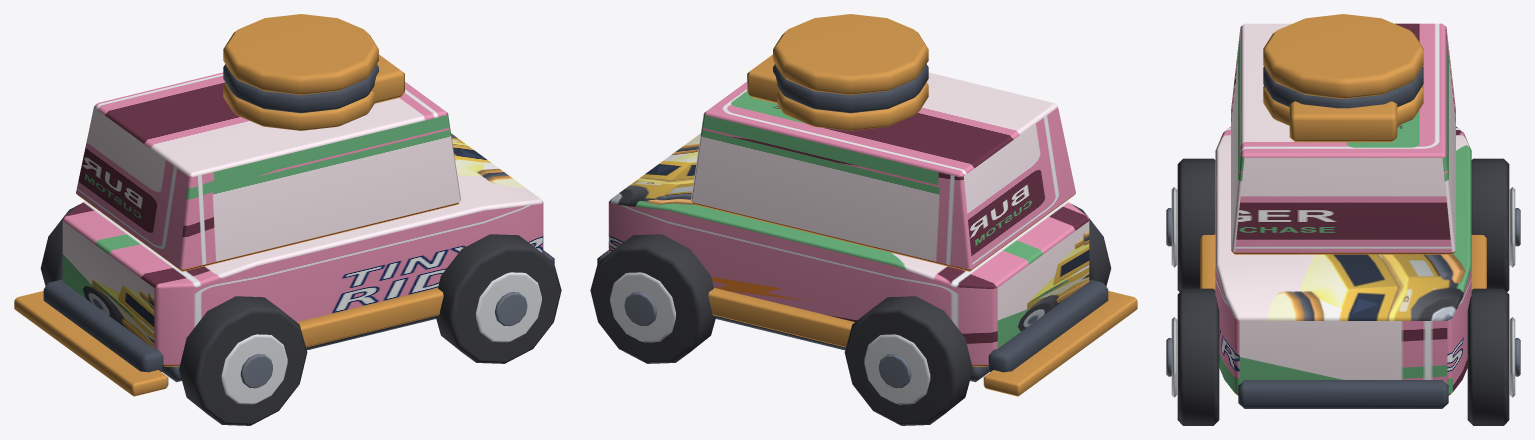
3 renders of one model, left to right at view 1: azimuth 30°, elevation 25°; view 2: azimuth 150°, elevation 25°; view 3: azimuth 270°, elevation 25°, orthographic. The views are drawn at different scales.
Visible parts, largest first — view 1: SS-03_cabin, SS-03_connected_shell, burger layer.002, Tire, Tire.002, custom chin, custom side guard, front bumper, burger layer.001, Rim, Rim.002, burger layer (+5 smaller); view 2: SS-03_cabin, SS-03_connected_shell, burger layer.002, Tire.001, Tire.003, custom chin, custom side guard.001, front bumper, burger layer.001, Rim.001, Rim.003, burger layer (+5 smaller); view 3: SS-03_connected_shell, SS-03_cabin, burger layer.002, rear bumper, Tire.002, Tire.003, Tire, Tire.001, custom equipment, burger layer.001, burger layer, custom side guard (+5 smaller).
Boxes of the visible parts, x1=… form: SS-03_cabin: x1=76, y1=72, x2=460, y2=271; SS-03_connected_shell: x1=62, y1=133, x2=543, y2=366; burger layer.002: x1=223, y1=14, x2=378, y2=95; Tire: x1=179, y1=296, x2=307, y2=425; Tire.002: x1=435, y1=234, x2=561, y2=363; custom chin: x1=14, y1=291, x2=168, y2=396; custom side guard: x1=297, y1=288, x2=443, y2=347; front bumper: x1=43, y1=279, x2=163, y2=372; burger layer.001: x1=223, y1=64, x2=378, y2=113; Rim: x1=221, y1=334, x2=287, y2=404; Rim.002: x1=476, y1=272, x2=541, y2=342; burger layer: x1=223, y1=82, x2=374, y2=130; SS-03_cabin: x1=691, y1=72, x2=1075, y2=271; SS-03_connected_shell: x1=608, y1=133, x2=1089, y2=366; burger layer.002: x1=773, y1=14, x2=928, y2=95; Tire.001: x1=844, y1=296, x2=972, y2=425; Tire.003: x1=590, y1=234, x2=716, y2=363; custom chin: x1=983, y1=291, x2=1137, y2=396; custom side guard.001: x1=708, y1=288, x2=854, y2=347; front bumper: x1=988, y1=279, x2=1108, y2=372; burger layer.001: x1=773, y1=64, x2=928, y2=113; Rim.001: x1=864, y1=334, x2=930, y2=404; Rim.003: x1=610, y1=272, x2=675, y2=342; burger layer: x1=777, y1=82, x2=928, y2=130; SS-03_connected_shell: x1=1215, y1=126, x2=1471, y2=395; SS-03_cabin: x1=1231, y1=23, x2=1455, y2=254; burger layer.002: x1=1263, y1=14, x2=1423, y2=98; rear bumper: x1=1238, y1=380, x2=1448, y2=408; Tire.002: x1=1177, y1=288, x2=1219, y2=425; Tire.003: x1=1467, y1=288, x2=1509, y2=425; Tire: x1=1177, y1=158, x2=1215, y2=291; Tire.001: x1=1471, y1=158, x2=1509, y2=291; custom equipment: x1=1289, y1=101, x2=1397, y2=142; burger layer.001: x1=1263, y1=67, x2=1423, y2=108; burger layer: x1=1263, y1=85, x2=1423, y2=125; custom side guard: x1=1200, y1=234, x2=1215, y2=289.
Bounding box in the file's own units: 328 × 213 × 221.
